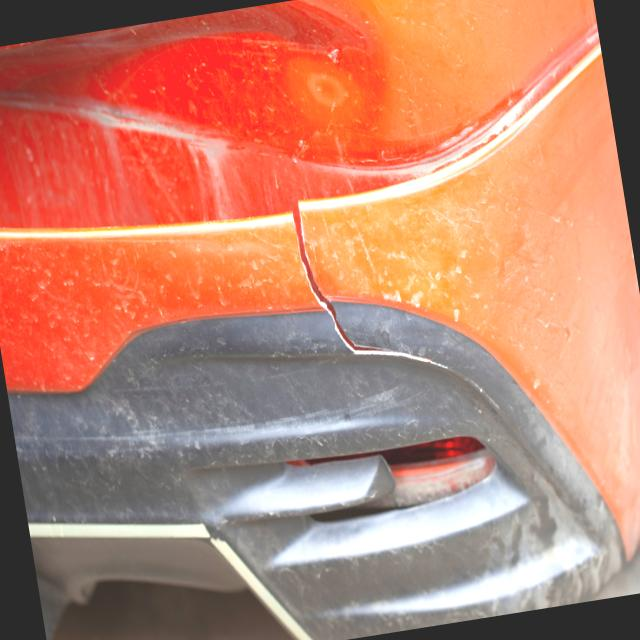Dechirure: (271, 170, 455, 393)
